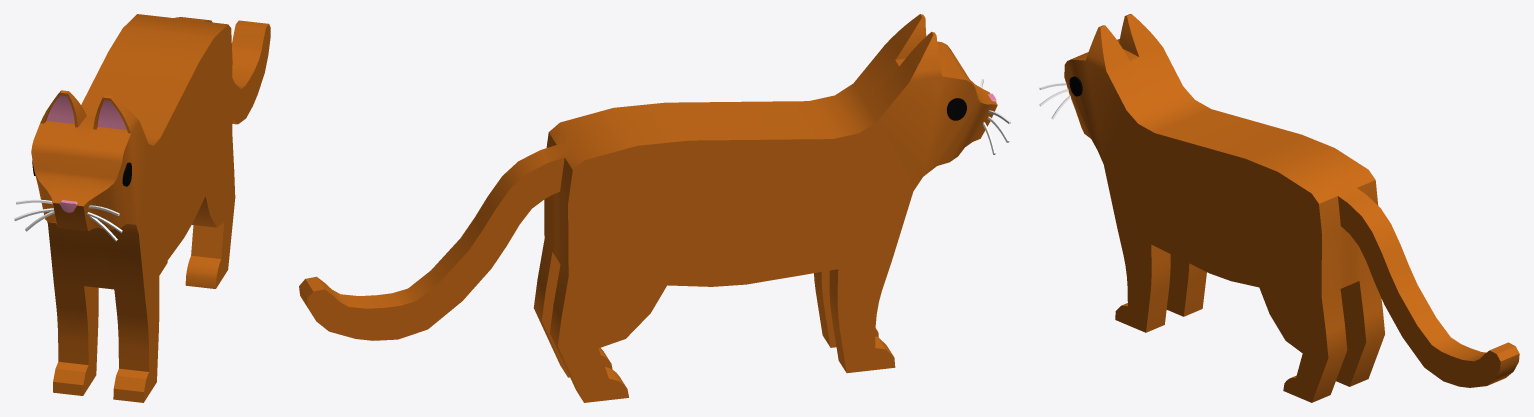
File: cat.gltf
3 views of the same model, side by side, from view 1: azimuth 30°, elevation 25°; view 2: azimuth 150°, elevation 25°; view 3: azimuth 270°, elevation 25° (orthographic). The views are drawn at different scales.
Parts seen in each view (by area): view 1: Plane.128, Cube.005; view 2: Plane.128; view 3: Plane.128.
Boxes of the visible parts, left/top/right/bottom form: Plane.128: left=31, top=14, right=270, bottom=402; Cube.005: left=14, top=199, right=122, bottom=241; Plane.128: left=299, top=14, right=997, bottom=402; Plane.128: left=1064, top=14, right=1519, bottom=402.
Bounding box in the file's own units: 2.35 × 1.49 × 2.35.
1 material, 1 textured.
